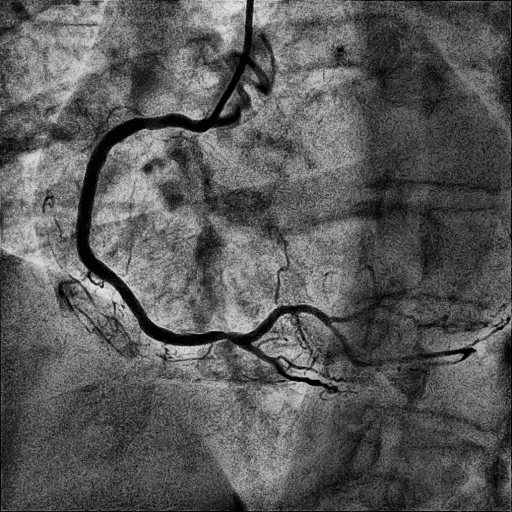pborca: (243, 305, 330, 343)
pda: (240, 344, 327, 387)
rca: (76, 113, 249, 347)
